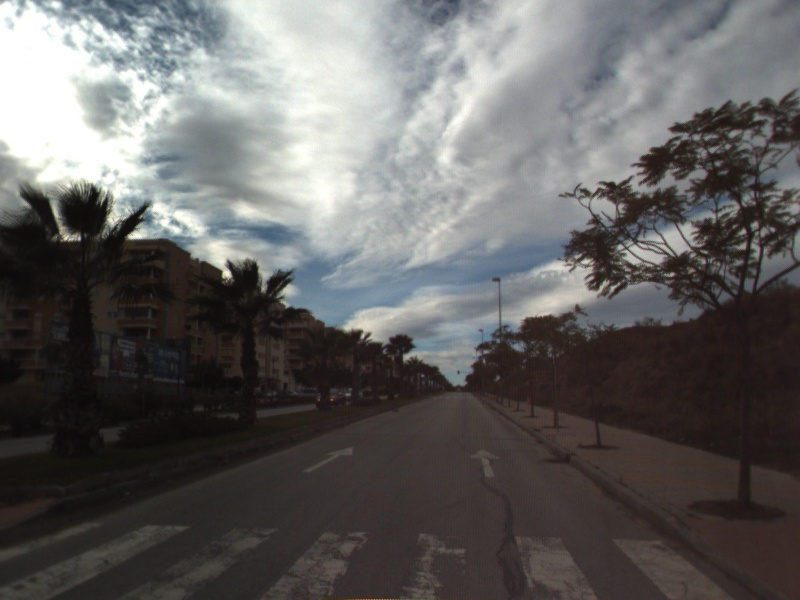STRAIGHT: (301, 445, 355, 474), (468, 447, 504, 480)
